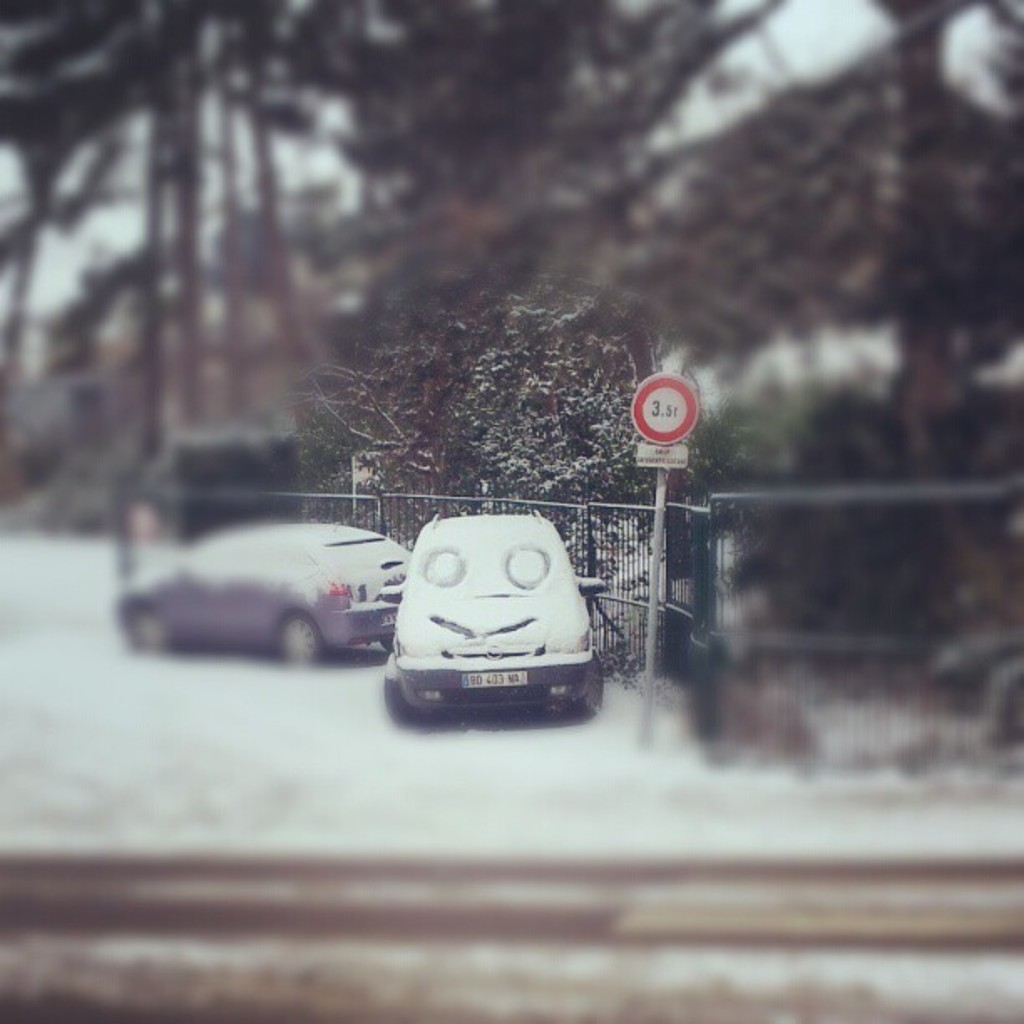Car: (374, 506, 605, 717), (117, 515, 419, 664)
